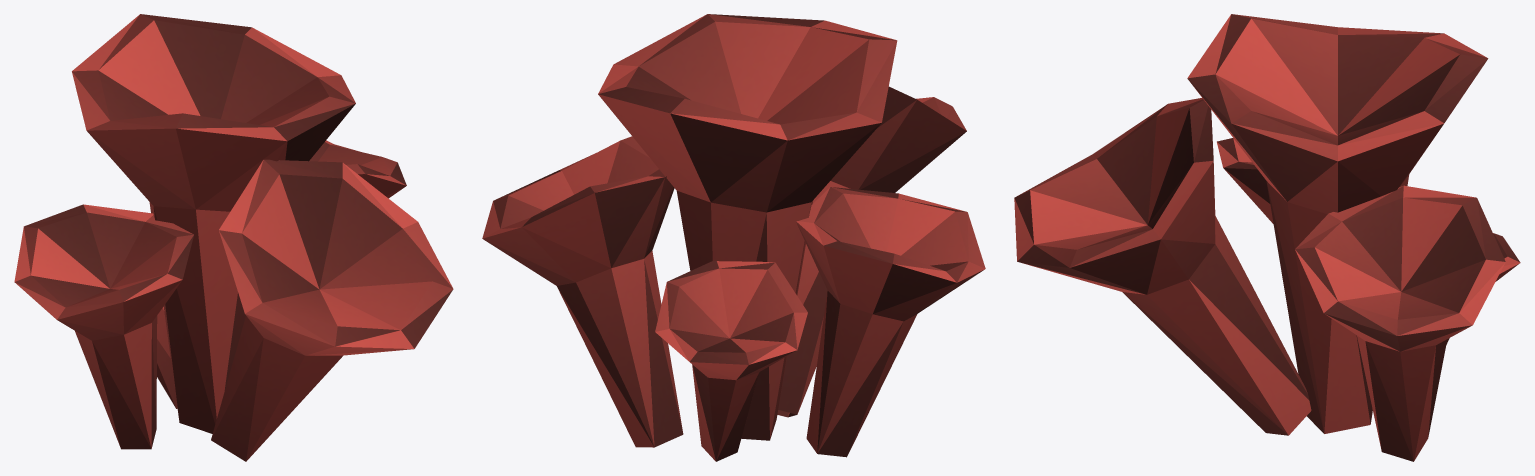
The model's file is Mushroom_Gr_5C.fbx.
The picture shows the model from 3 angles, left to right: view 1: azimuth 30°, elevation 25°; view 2: azimuth 150°, elevation 25°; view 3: azimuth 270°, elevation 25°; orthographic projection. The views are drawn at different scales.
Parts seen in each view (by area): view 1: polySurface692; view 2: polySurface692; view 3: polySurface692.
Part boxes in pixels (box(x1,y1,x2,y2)): polySurface692: box(14, 14, 453, 461); polySurface692: box(482, 14, 985, 461); polySurface692: box(1014, 14, 1520, 461).
Size of the model in its own units: 174 by 150 by 182.
Materials: 1 (1 with a texture image).
